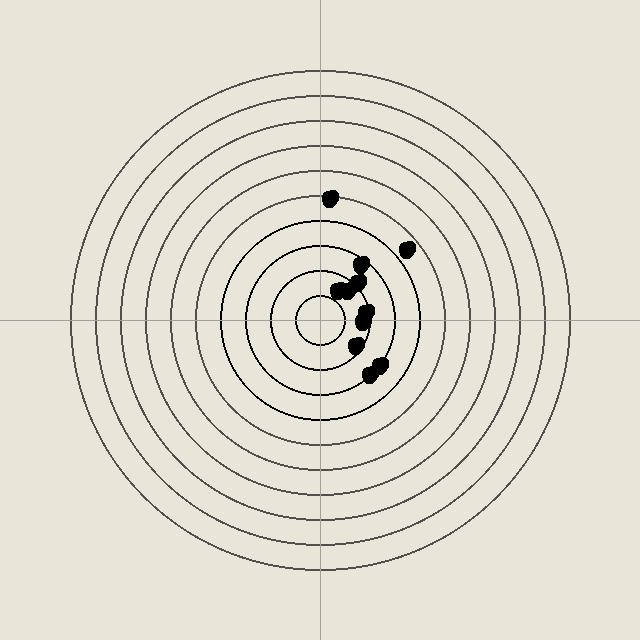vertical_scatter: (352, 311, 372, 331), (319, 188, 339, 208), (355, 302, 375, 322), (337, 280, 357, 300), (359, 364, 379, 384), (350, 254, 370, 274), (396, 239, 416, 259), (327, 280, 347, 300), (369, 355, 389, 375), (347, 272, 367, 292), (345, 335, 365, 355)
